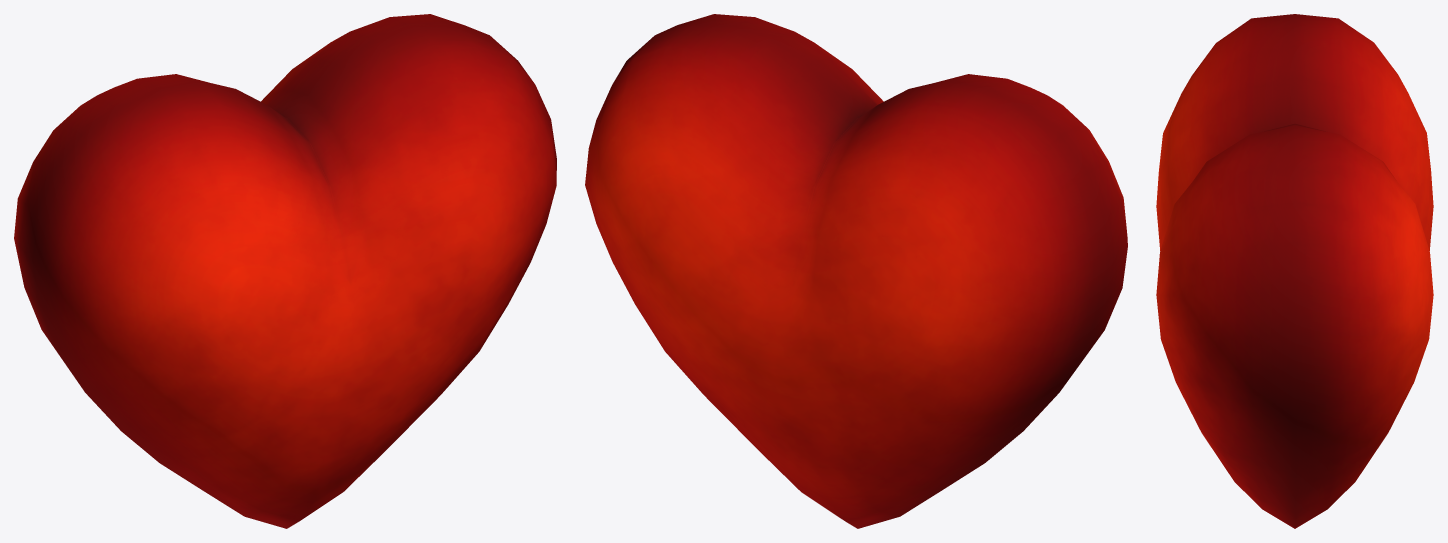
File: hearts.glb
The picture shows the model from 3 angles, left to right: view 1: azimuth 30°, elevation 25°; view 2: azimuth 150°, elevation 25°; view 3: azimuth 270°, elevation 25°; orthographic projection. The views are drawn at different scales.
Parts seen in each view (by area): view 1: Object_2; view 2: Object_2; view 3: Object_2.
Boxes of the visible parts, left/top/right/bottom form: Object_2: left=14, top=14, right=556, bottom=528; Object_2: left=585, top=14, right=1127, bottom=528; Object_2: left=1156, top=14, right=1433, bottom=528.
Size of the model in its own units: 6.54 by 5.81 by 3.27.
Materials: 1 (1 with a texture image).
